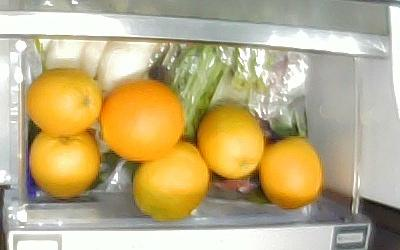orange: (100, 81, 182, 164), (133, 139, 211, 221), (27, 66, 102, 134), (198, 104, 265, 178), (29, 129, 99, 197), (257, 137, 322, 210)
